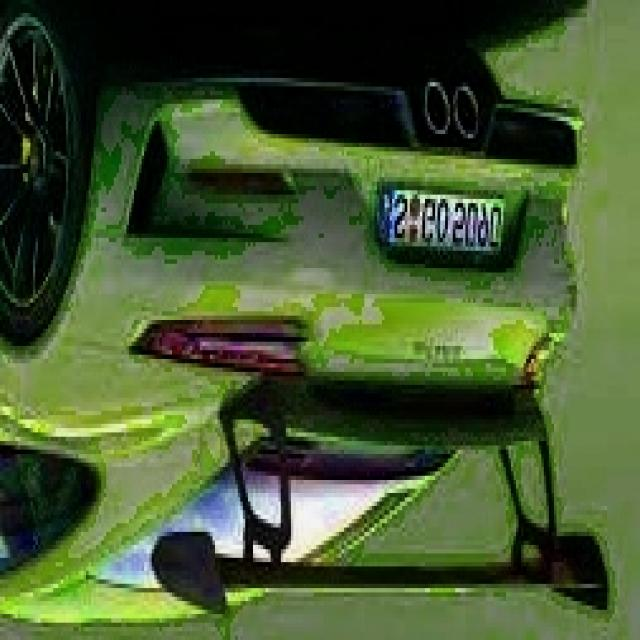green: (7, 24, 640, 634)
